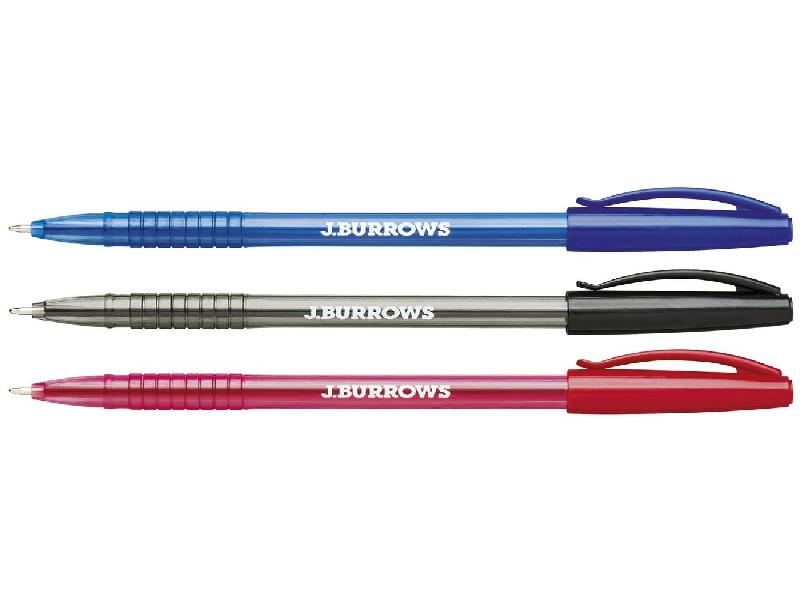pen: (5, 183, 797, 264), (4, 265, 798, 345), (3, 343, 800, 420)
